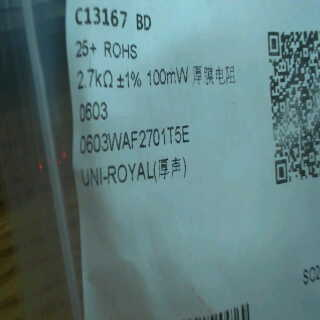2.7kR: (73, 64, 114, 96)
